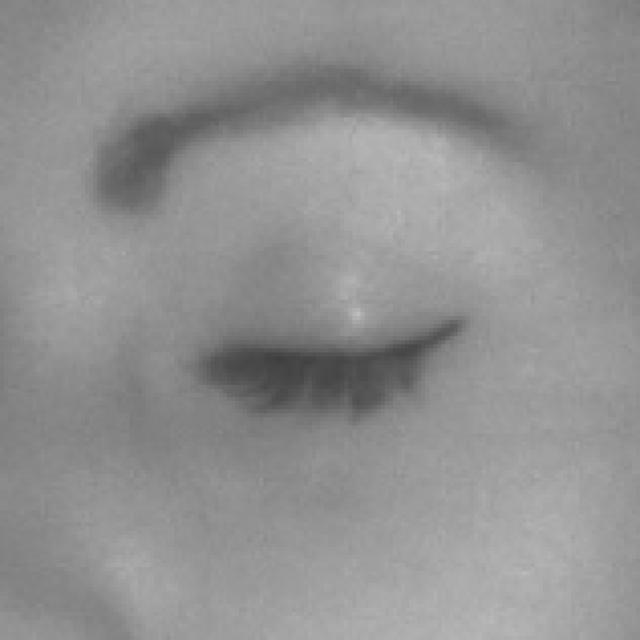Eyeclosed: (210, 233, 463, 489)
